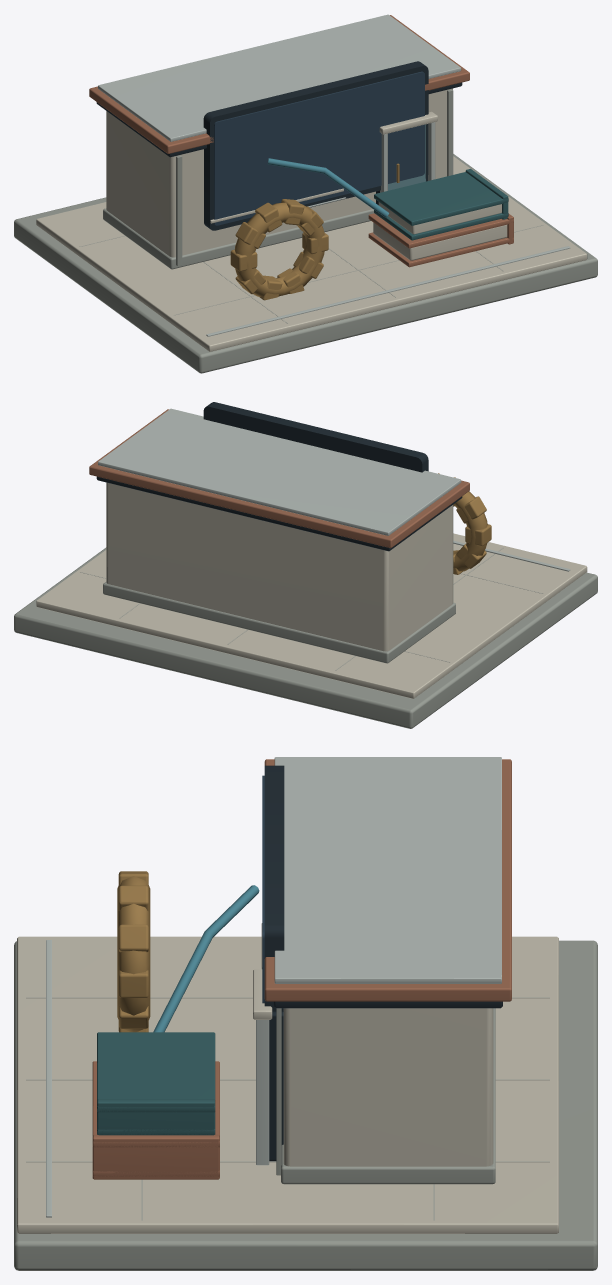
File: idea-326f629c.glb
The picture shows the model from 3 angles, top to bottom: view 1: azimuth 30°, elevation 25°; view 2: azimuth 150°, elevation 25°; view 3: azimuth 270°, elevation 25°; orthographic projection. The views are drawn at different scales.
Visible parts, largest first — view 1: Knowledge → Film Engine; view 2: Knowledge → Film Engine; view 3: Knowledge → Film Engine.
Part boxes in pixels (box(x1,y1,x2,y2)): Knowledge → Film Engine: box(14, 14, 597, 373); Knowledge → Film Engine: box(14, 402, 597, 728); Knowledge → Film Engine: box(14, 757, 597, 1270).
Bounding box in the file's own units: 4.8 × 2.03 × 3.9.
